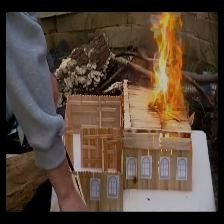fire: (147, 11, 190, 123)
